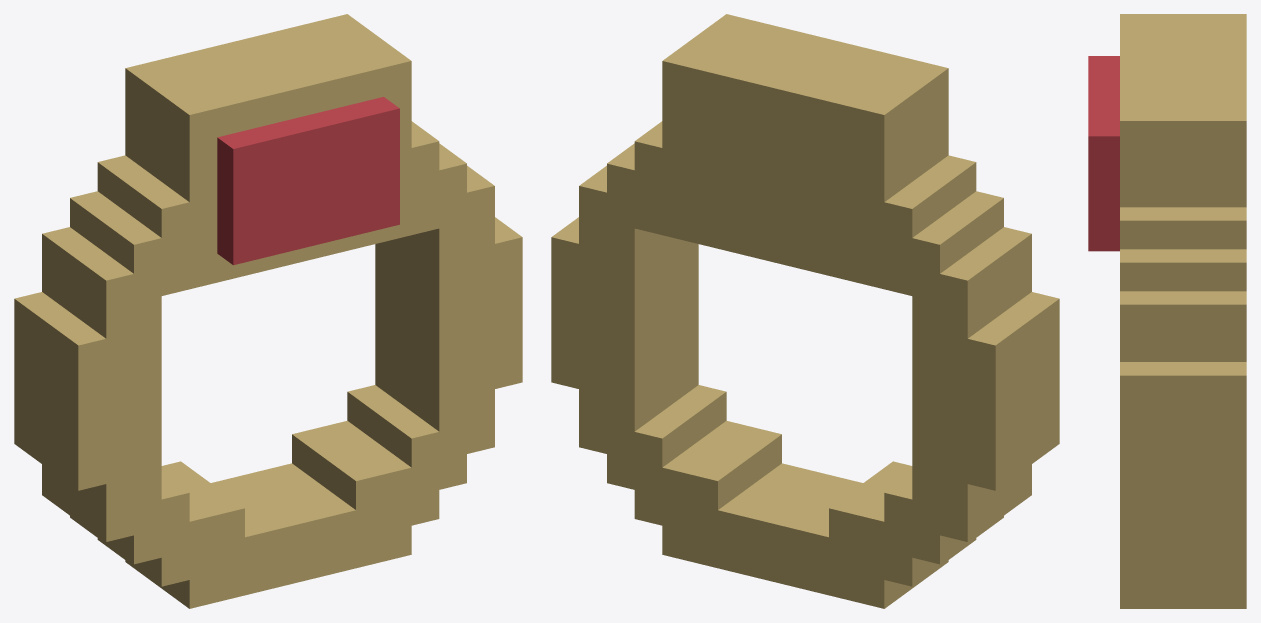
The model's file is artifact_kings_sigil.glb.
3 renders of one model, left to right at view 1: azimuth 30°, elevation 25°; view 2: azimuth 150°, elevation 25°; view 3: azimuth 270°, elevation 25°, orthographic.
Parts seen in each view (by area): view 1: artifact_kings_sigil; view 2: artifact_kings_sigil; view 3: artifact_kings_sigil.
Part boxes in pixels (x1,y1,x2,y2): artifact_kings_sigil: (14,14,522,608); artifact_kings_sigil: (551,14,1059,608); artifact_kings_sigil: (1088,14,1246,608).
Size of the model in its own units: 0.192 by 0.204 by 0.06.
